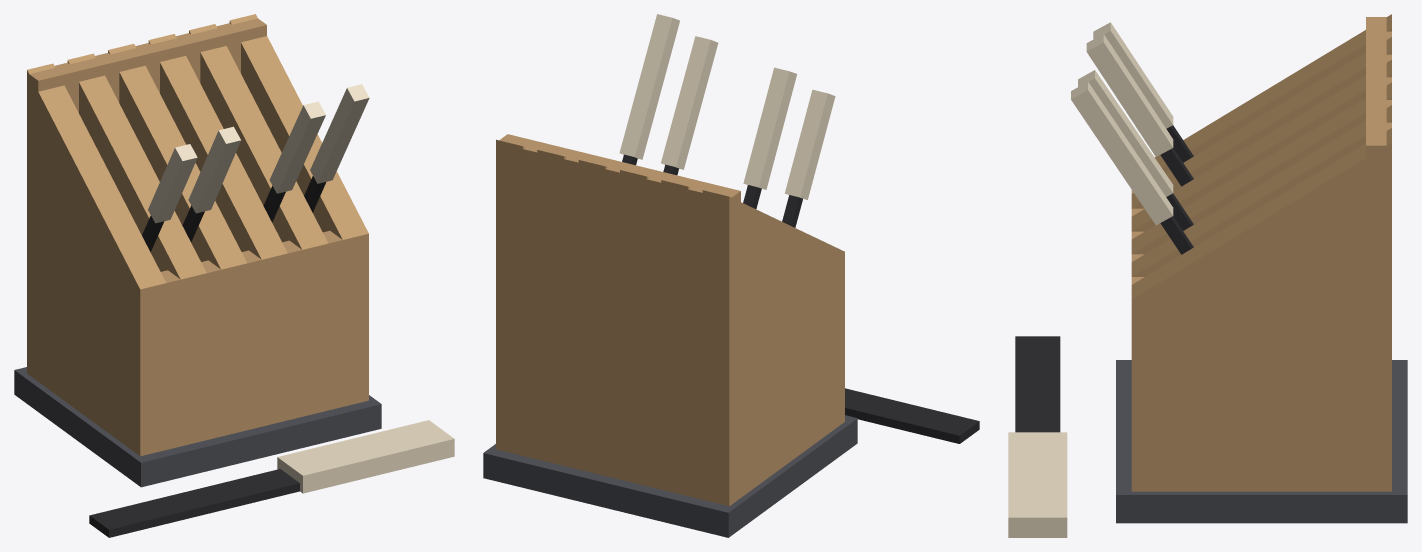
File: FN_Block_Knife.glb
3 views of the same model, side by side, from view 1: azimuth 30°, elevation 25°; view 2: azimuth 150°, elevation 25°; view 3: azimuth 270°, elevation 25° (orthographic). The views are drawn at different scales.
Visible parts, largest first — view 1: FN_Block_Knife; view 2: FN_Block_Knife; view 3: FN_Block_Knife.
Part boxes in pixels (left/top/right/bottom): FN_Block_Knife: left=14, top=14, right=454, bottom=537; FN_Block_Knife: left=483, top=14, right=979, bottom=537; FN_Block_Knife: left=1008, top=14, right=1407, bottom=537.
Size of the model in its own units: 0.262 by 0.264 by 0.23.
Materials: 1 (1 with a texture image).
